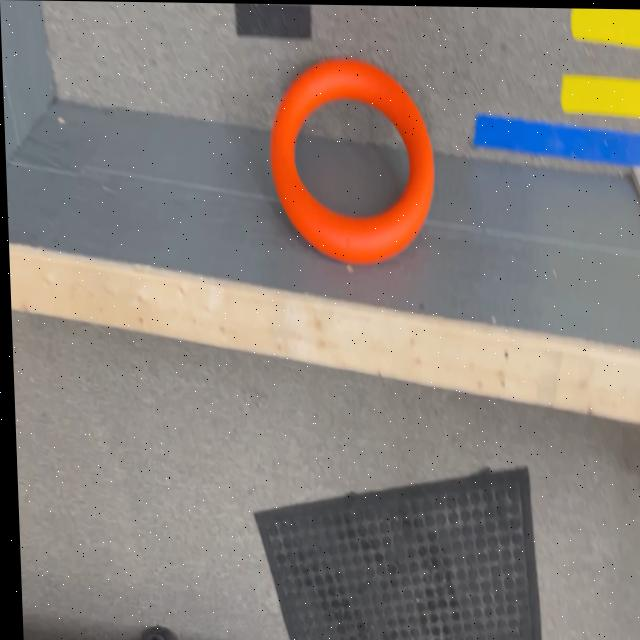note: (265, 56, 435, 266)
